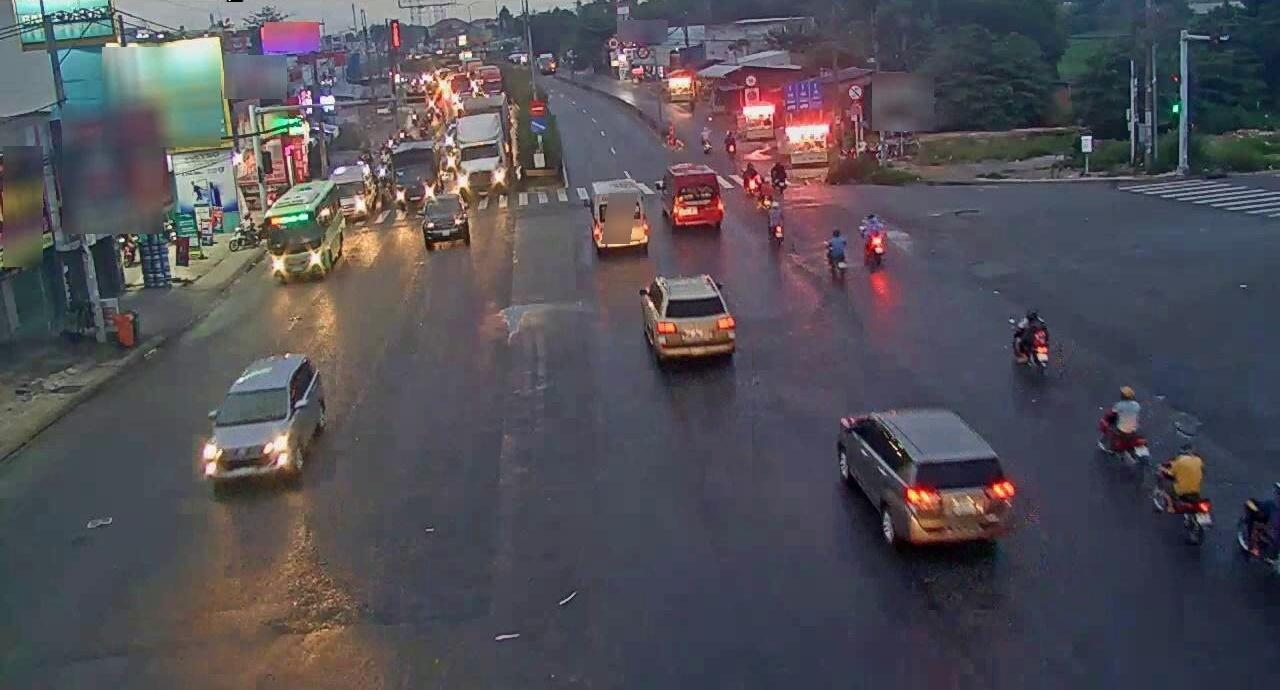xe hoi: (836, 401, 1010, 547), (209, 352, 329, 480), (639, 268, 744, 371), (1142, 456, 1204, 554)
xe may: (1150, 435, 1221, 557), (1026, 315, 1072, 397), (859, 221, 890, 287), (857, 208, 890, 267), (781, 221, 807, 279)
xe van: (586, 174, 659, 258), (661, 158, 732, 235)
